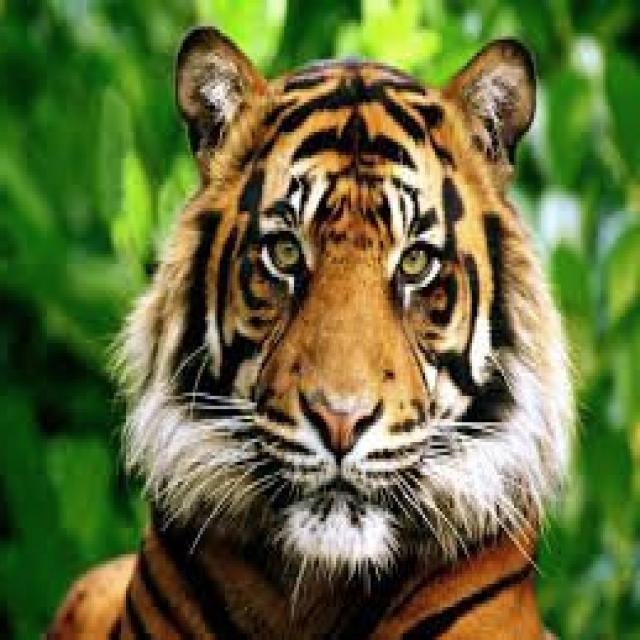tiger: (49, 26, 576, 637)
